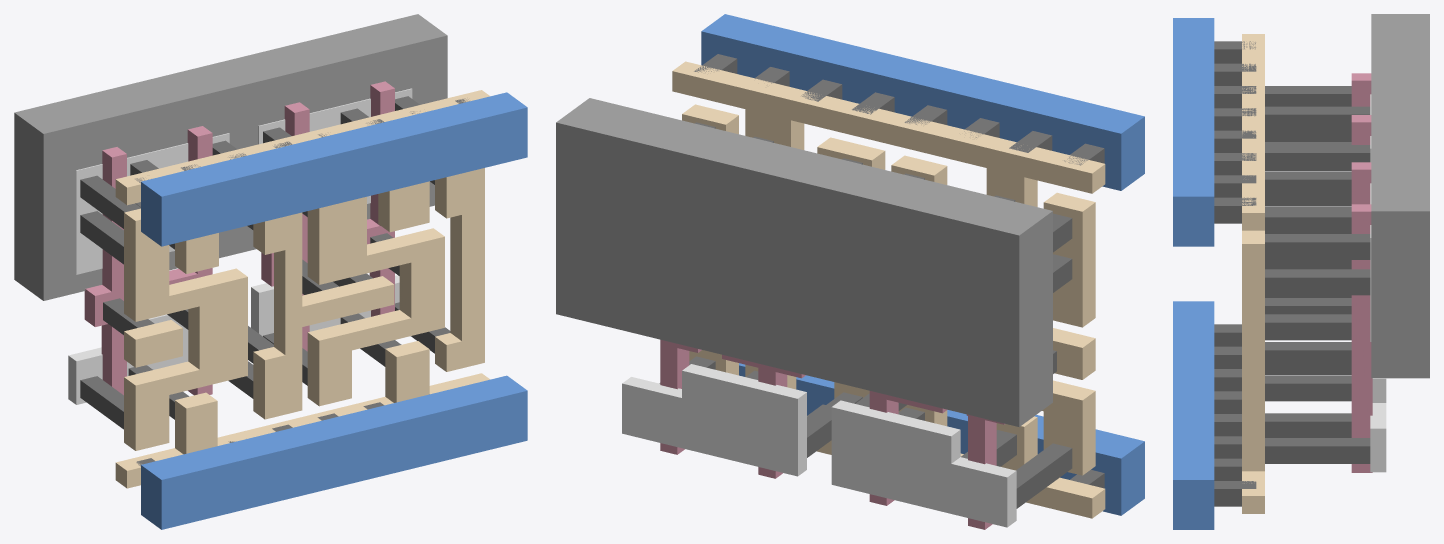
The model's file is sky130_fd_sc_hd__clkdlybuf4s15_1.gds.gltf.
3 renders of one model, left to right at view 1: azimuth 30°, elevation 25°; view 2: azimuth 150°, elevation 25°; view 3: azimuth 270°, elevation 25°, orthographic. The views are drawn at different scales.
Visible parts, largest first — view 1: sky130_fd_sc_hd__clkdlybuf4s15_1_li1, sky130_fd_sc_hd__clkdlybuf4s15_1_met1, sky130_fd_sc_hd__clkdlybuf4s15_1_nwell, sky130_fd_sc_hd__clkdlybuf4s15_1_licon, sky130_fd_sc_hd__clkdlybuf4s15_1_poly, sky130_fd_sc_hd__clkdlybuf4s15_1_diff, sky130_fd_sc_hd__clkdlybuf4s15_1_mcon; view 2: sky130_fd_sc_hd__clkdlybuf4s15_1_nwell, sky130_fd_sc_hd__clkdlybuf4s15_1_li1, sky130_fd_sc_hd__clkdlybuf4s15_1_diff, sky130_fd_sc_hd__clkdlybuf4s15_1_met1, sky130_fd_sc_hd__clkdlybuf4s15_1_licon, sky130_fd_sc_hd__clkdlybuf4s15_1_poly, sky130_fd_sc_hd__clkdlybuf4s15_1_mcon; view 3: sky130_fd_sc_hd__clkdlybuf4s15_1_licon, sky130_fd_sc_hd__clkdlybuf4s15_1_nwell, sky130_fd_sc_hd__clkdlybuf4s15_1_met1, sky130_fd_sc_hd__clkdlybuf4s15_1_mcon, sky130_fd_sc_hd__clkdlybuf4s15_1_li1, sky130_fd_sc_hd__clkdlybuf4s15_1_poly, sky130_fd_sc_hd__clkdlybuf4s15_1_diff.
Boxes of the visible parts, box(x1,y1,x2,y2) form: sky130_fd_sc_hd__clkdlybuf4s15_1_li1: box(115, 90, 489, 488); sky130_fd_sc_hd__clkdlybuf4s15_1_met1: box(141, 92, 527, 529); sky130_fd_sc_hd__clkdlybuf4s15_1_nwell: box(14, 14, 447, 300); sky130_fd_sc_hd__clkdlybuf4s15_1_licon: box(80, 96, 450, 429); sky130_fd_sc_hd__clkdlybuf4s15_1_poly: box(84, 81, 394, 395); sky130_fd_sc_hd__clkdlybuf4s15_1_diff: box(68, 88, 412, 404); sky130_fd_sc_hd__clkdlybuf4s15_1_mcon: box(135, 98, 469, 466); sky130_fd_sc_hd__clkdlybuf4s15_1_nwell: box(556, 98, 1052, 426); sky130_fd_sc_hd__clkdlybuf4s15_1_li1: box(672, 61, 1105, 518); sky130_fd_sc_hd__clkdlybuf4s15_1_diff: box(622, 364, 1016, 527); sky130_fd_sc_hd__clkdlybuf4s15_1_met1: box(701, 14, 1144, 515); sky130_fd_sc_hd__clkdlybuf4s15_1_licon: box(659, 122, 1072, 508); sky130_fd_sc_hd__clkdlybuf4s15_1_poly: box(660, 339, 1004, 529); sky130_fd_sc_hd__clkdlybuf4s15_1_mcon: box(694, 54, 1104, 488); sky130_fd_sc_hd__clkdlybuf4s15_1_licon: box(1265, 86, 1370, 463); sky130_fd_sc_hd__clkdlybuf4s15_1_nwell: box(1371, 14, 1429, 378); sky130_fd_sc_hd__clkdlybuf4s15_1_met1: box(1173, 18, 1214, 529); sky130_fd_sc_hd__clkdlybuf4s15_1_mcon: box(1214, 41, 1256, 506); sky130_fd_sc_hd__clkdlybuf4s15_1_li1: box(1242, 34, 1264, 513); sky130_fd_sc_hd__clkdlybuf4s15_1_poly: box(1351, 73, 1372, 472); sky130_fd_sc_hd__clkdlybuf4s15_1_diff: box(1370, 94, 1386, 472).
Bounding box in the file's own units: 4.06 × 3.2 × 2.24.
